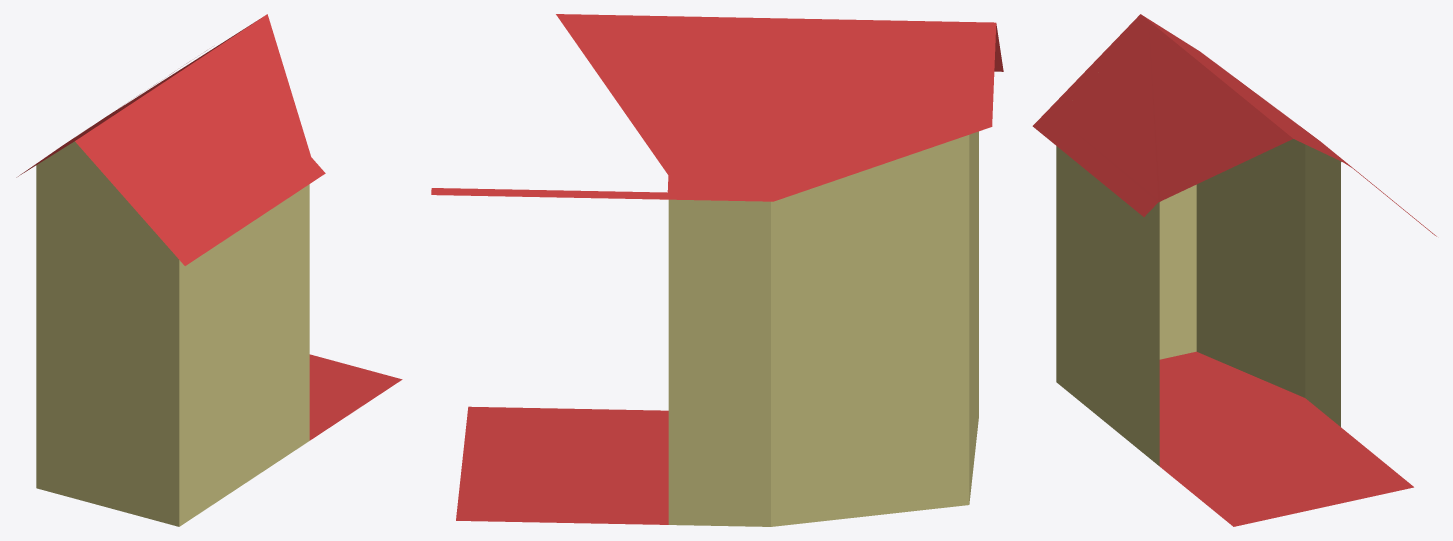
3 views of the same model, side by side, from view 1: azimuth 30°, elevation 25°; view 2: azimuth 150°, elevation 25°; view 3: azimuth 270°, elevation 25° (orthographic). The views are drawn at different scales.
Size of the model in its own units: 12.28 by 11.42 by 10.59.
